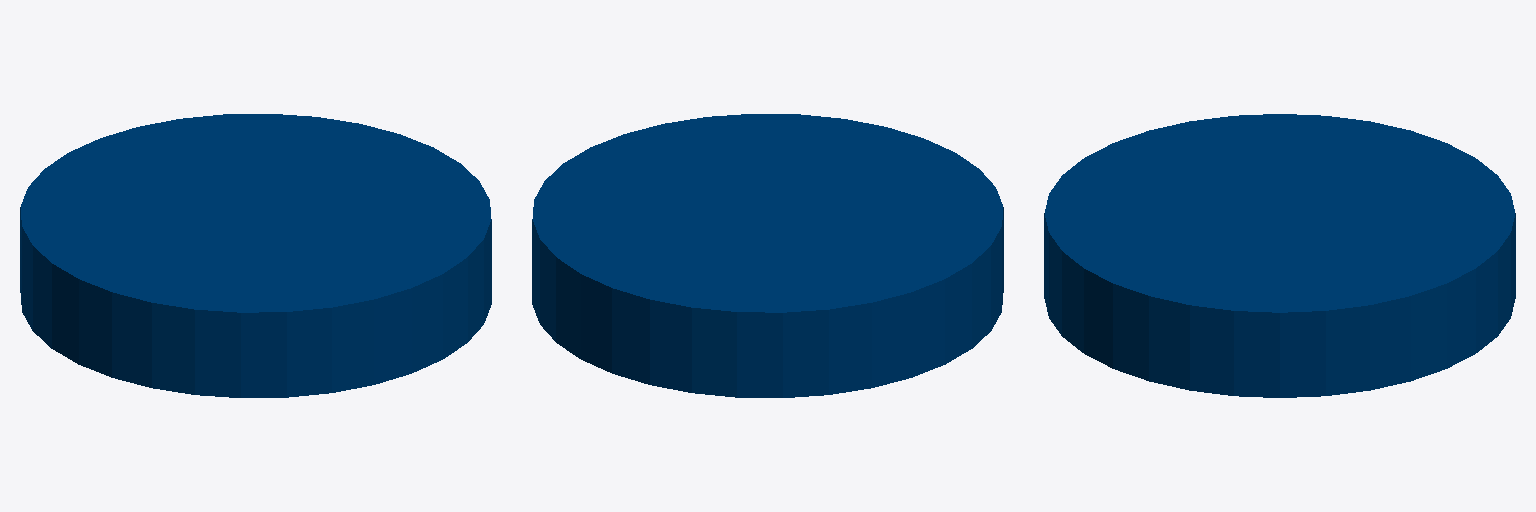
robot.urdf — obstacle:
<robot name="obstacle">
    
  <link name="obstacle">
    <inertial>
      <origin rpy="0 0 0" xyz="0 0 0"/>
       <mass value="0"/>
       <inertia ixx="0" ixy="0" ixz="0" iyy="0" iyz="0" izz="0"/>
    </inertial>

    <visual>
      <origin rpy="0 0 0" xyz="0 0 0"/>
      <geometry>
        <cylinder radius="1.0" length="0.4"/>
      </geometry>
      <material name="white">
        <color rgba="0 0.28 0.5 1"/>
      </material>
    </visual>
    
    <collision>
      <origin rpy="0 0 0" xyz="0 0 0"/>
      <geometry>
        <cylinder radius="1.0" length="0.4"/>
      </geometry>
    </collision>
  </link>

    
</robot>

--- Render facts (derived) ---
The picture shows the robot from 3 angles, left to right: view 1: azimuth 30°, elevation 25°; view 2: azimuth 150°, elevation 25°; view 3: azimuth 270°, elevation 25°; orthographic projection.
Model obstacle with 1 links and 0 joints (none), rooted at obstacle, posed all joints at 0.
Visible links, largest first — view 1: obstacle; view 2: obstacle; view 3: obstacle.
Link boxes in pixels (x1,y1,x2,y2): obstacle: [20, 114, 491, 397]; obstacle: [532, 114, 1003, 397]; obstacle: [1044, 114, 1515, 397].
Bounding box of the posed robot: 2 × 2 × 0.4 m (x, y, z).
Geometry: primitives only (box / cylinder / sphere), no mesh files.